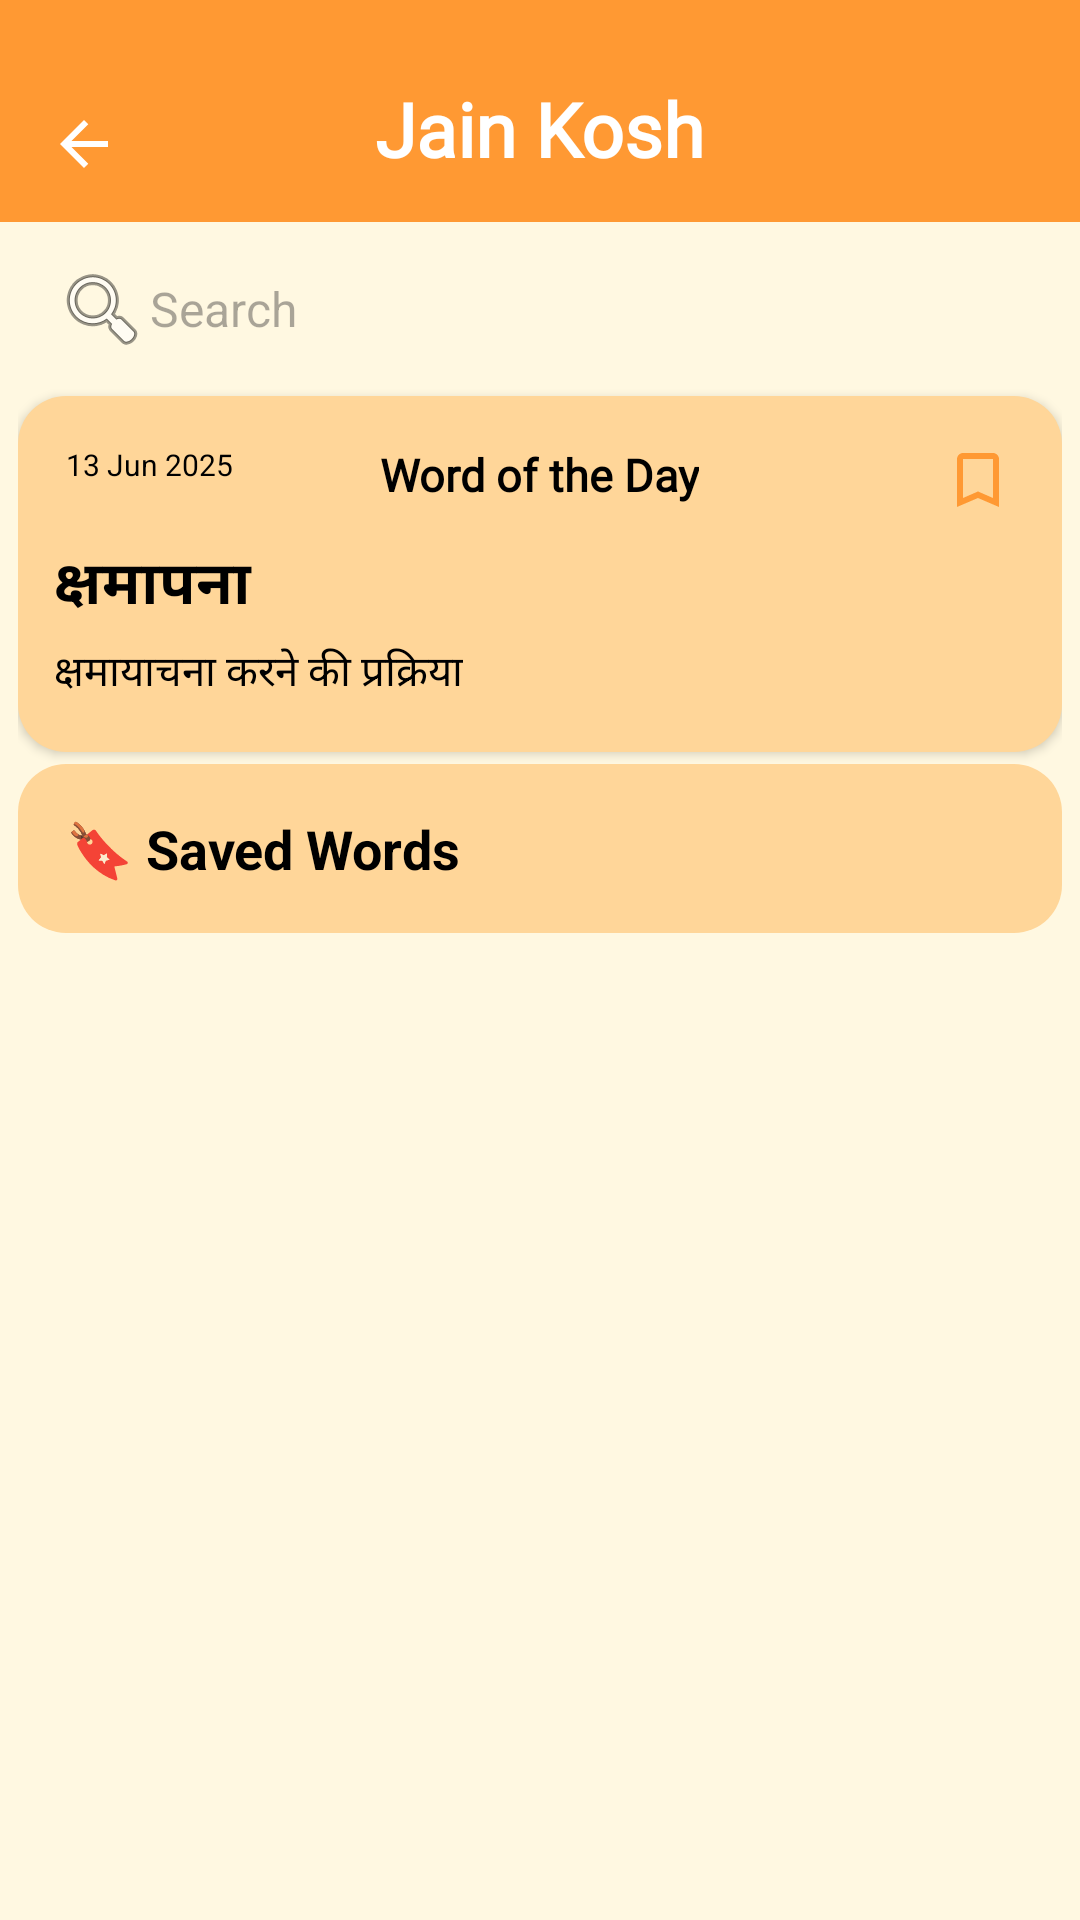

Named icons in this screenshot (1080px x 1920px) and their centers, (x=x, y=y):
bookmark: (x=978, y=480)
